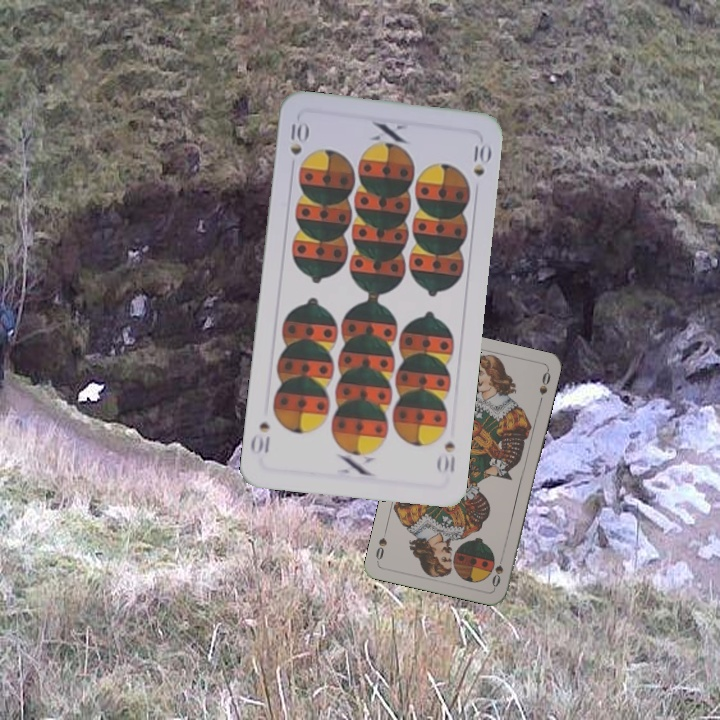S10: (433, 437, 458, 476), (286, 119, 309, 157)
SO: (488, 550, 506, 590)
